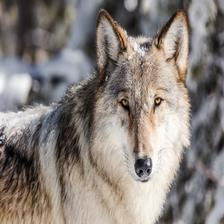WOLF: (67, 12, 196, 224)
